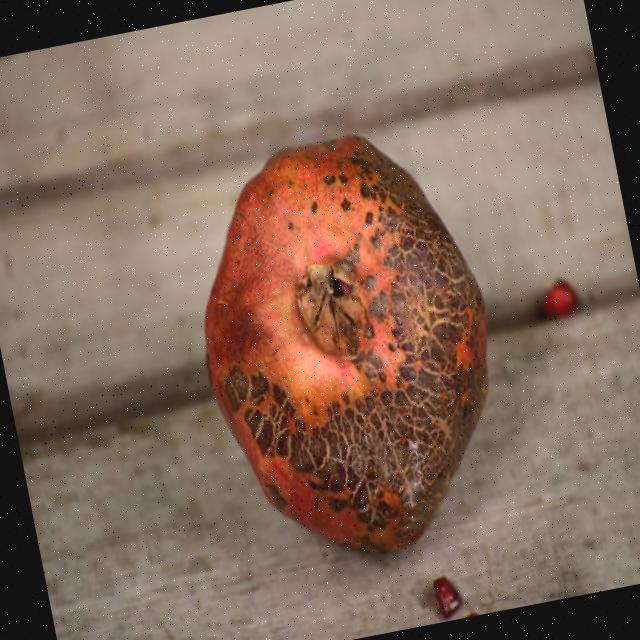overripe: (156, 105, 534, 588)
